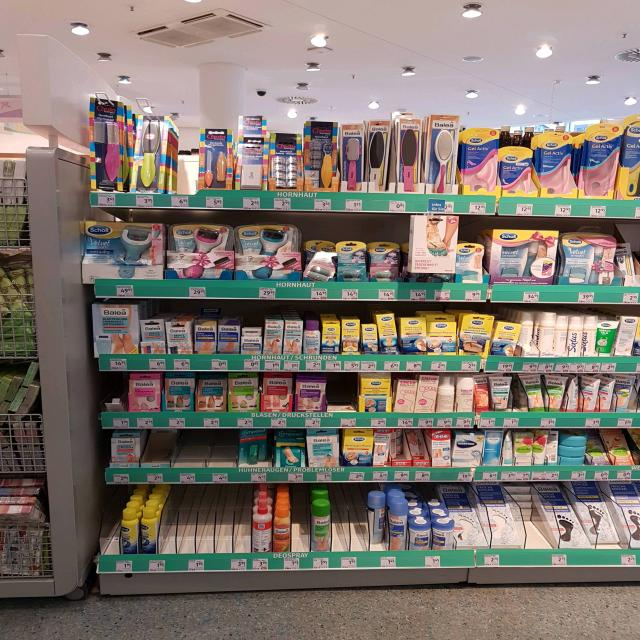void: (207, 485, 243, 568), (191, 430, 230, 488), (171, 493, 200, 569), (152, 432, 184, 486)
